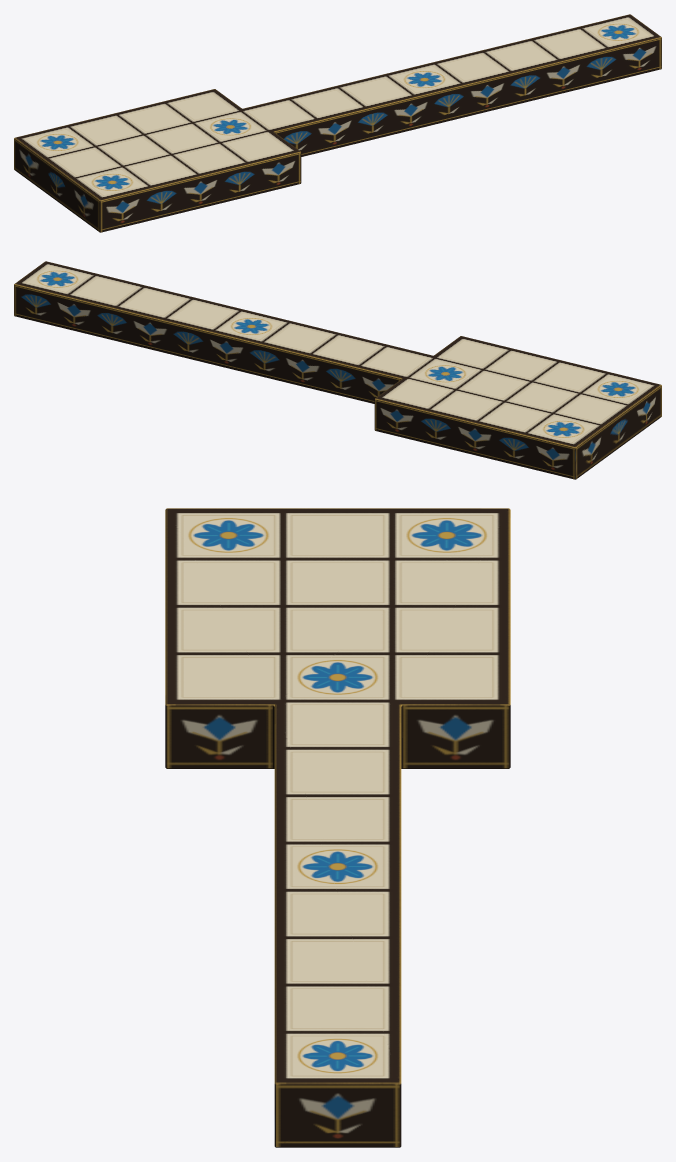
File: ur_board_twenty.glb
The picture shows the model from 3 angles, top to bottom: view 1: azimuth 30°, elevation 25°; view 2: azimuth 150°, elevation 25°; view 3: azimuth 270°, elevation 25°; orthographic projection. The views are drawn at different scales.
Parts seen in each view (by area): view 1: UR_Board_Twenty; view 2: UR_Board_Twenty; view 3: UR_Board_Twenty.
Part boxes in pixels (x1,y1,x2,y2): UR_Board_Twenty: [14, 14, 661, 232]; UR_Board_Twenty: [14, 261, 661, 479]; UR_Board_Twenty: [165, 508, 510, 1147].
Bounding box in the file's own units: 0.4575 × 0.024 × 0.116.
Materials: 1 (1 with a texture image).
